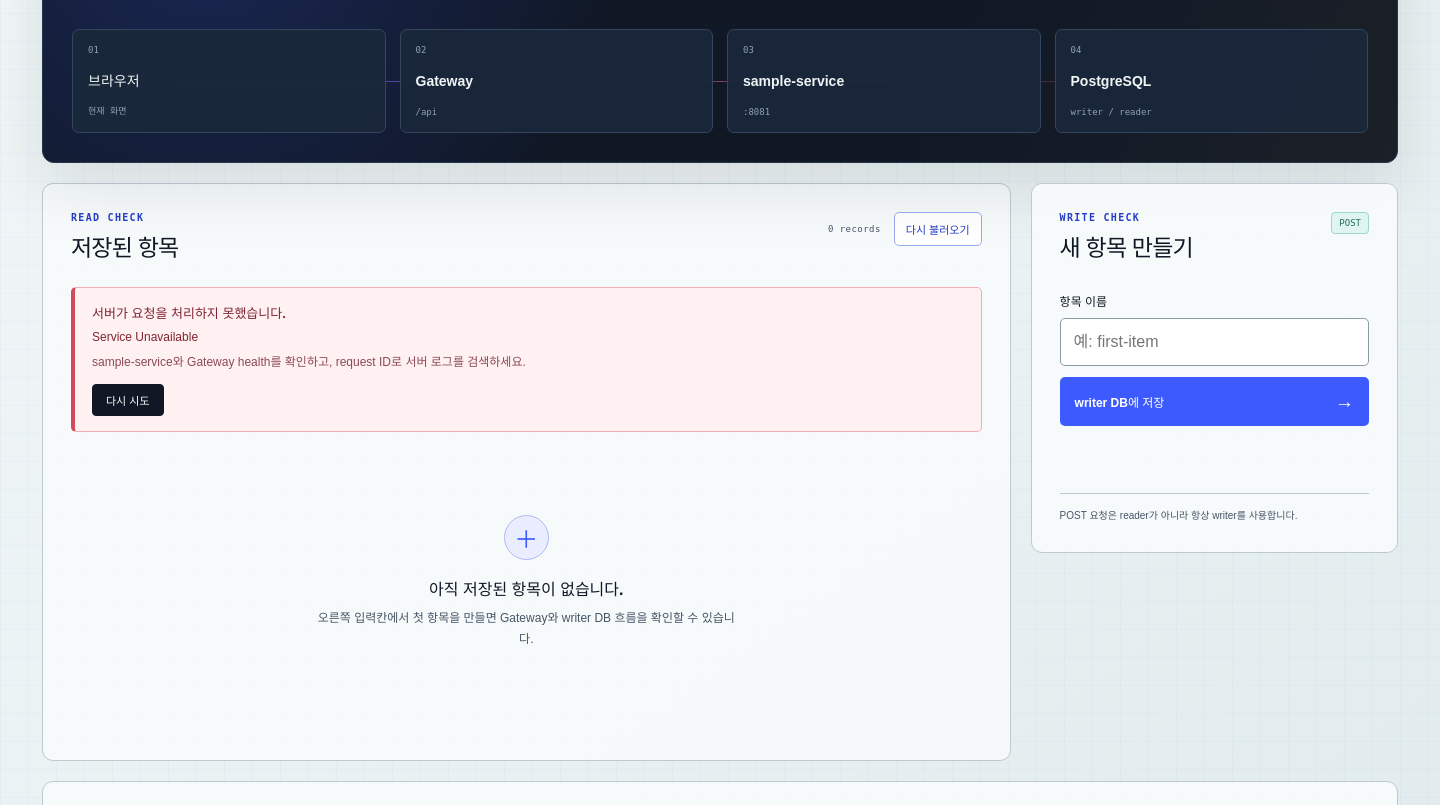
Scenario: App › retries the same request from the failure notice
This screenshot has width=1440, height=805.
(page scrolled)
Click the button "다시 시도" at x=128, y=400, box [92,384,164,416]
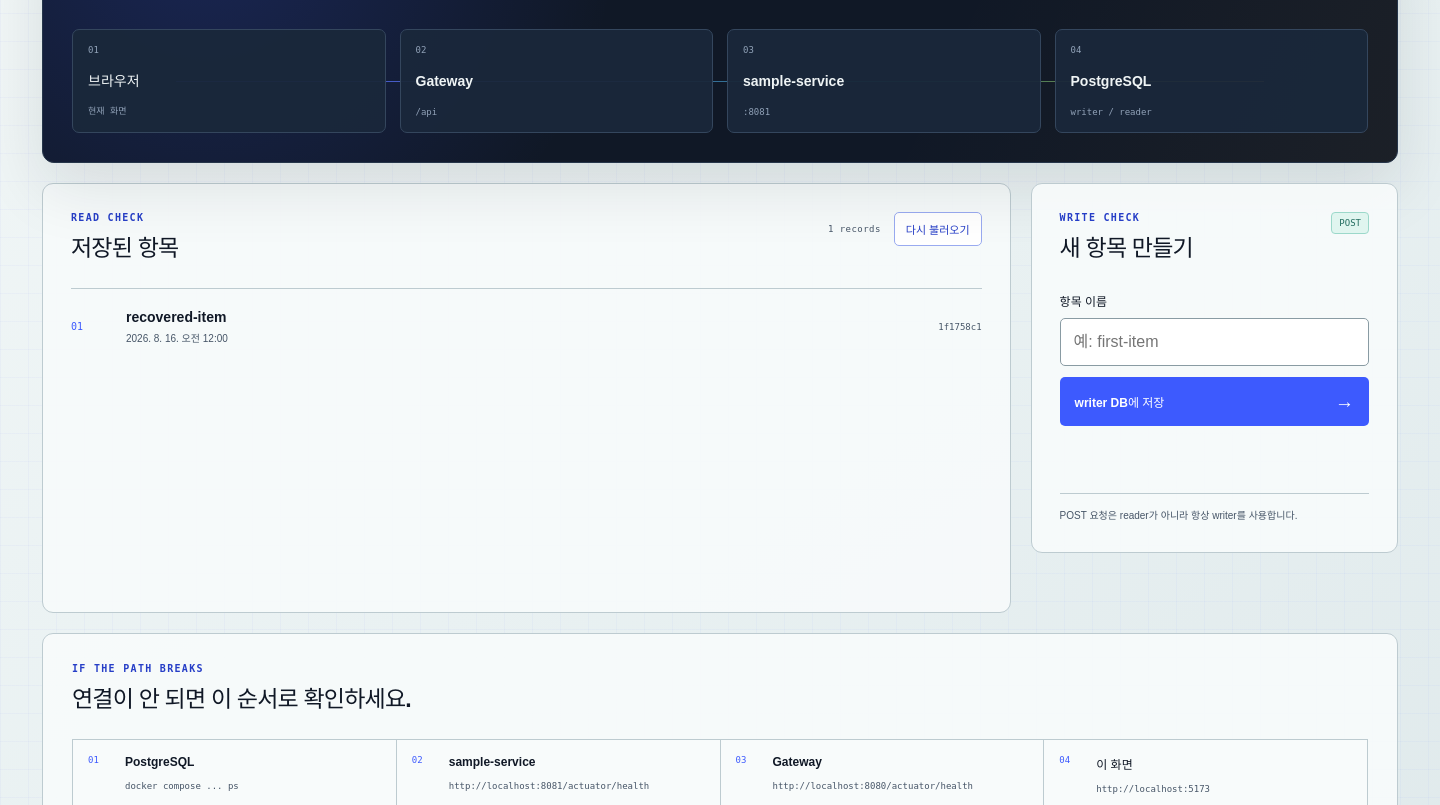
Check: the text "recovered-item" is shown, box [126,309,226,325]
